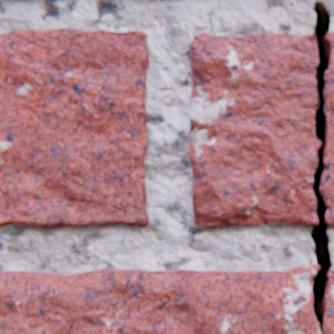brick: (0, 29, 150, 229)
broken_brick: (190, 34, 320, 226), (0, 264, 333, 333), (319, 33, 333, 226)
crack: (309, 1, 333, 332)
